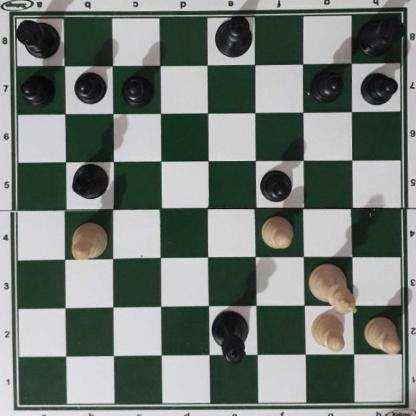black-bishop: (68, 163, 111, 199)
black-king: (212, 14, 254, 58)
black-pawn: (360, 69, 396, 105), (121, 71, 153, 108), (309, 68, 342, 102), (20, 71, 53, 104), (260, 167, 292, 201), (73, 70, 104, 104)
black-queen: (212, 310, 249, 365)
black-rook: (13, 15, 61, 58), (358, 14, 405, 55)
white-bishop: (70, 223, 108, 259)
white-king: (307, 263, 359, 315)
white-pawn: (309, 313, 347, 353), (363, 315, 400, 353), (259, 213, 294, 248)
